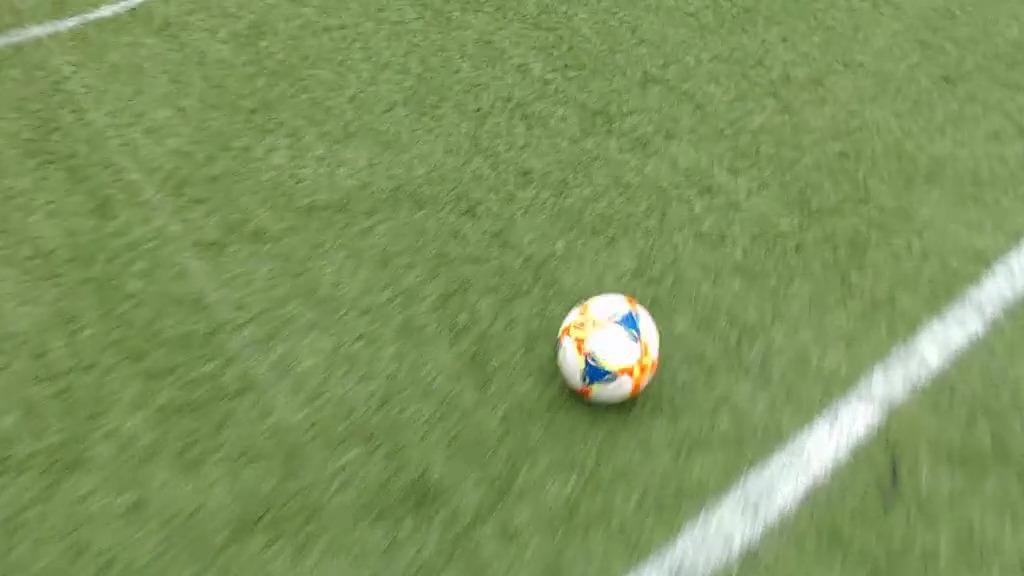ball: (557, 292, 660, 403)
